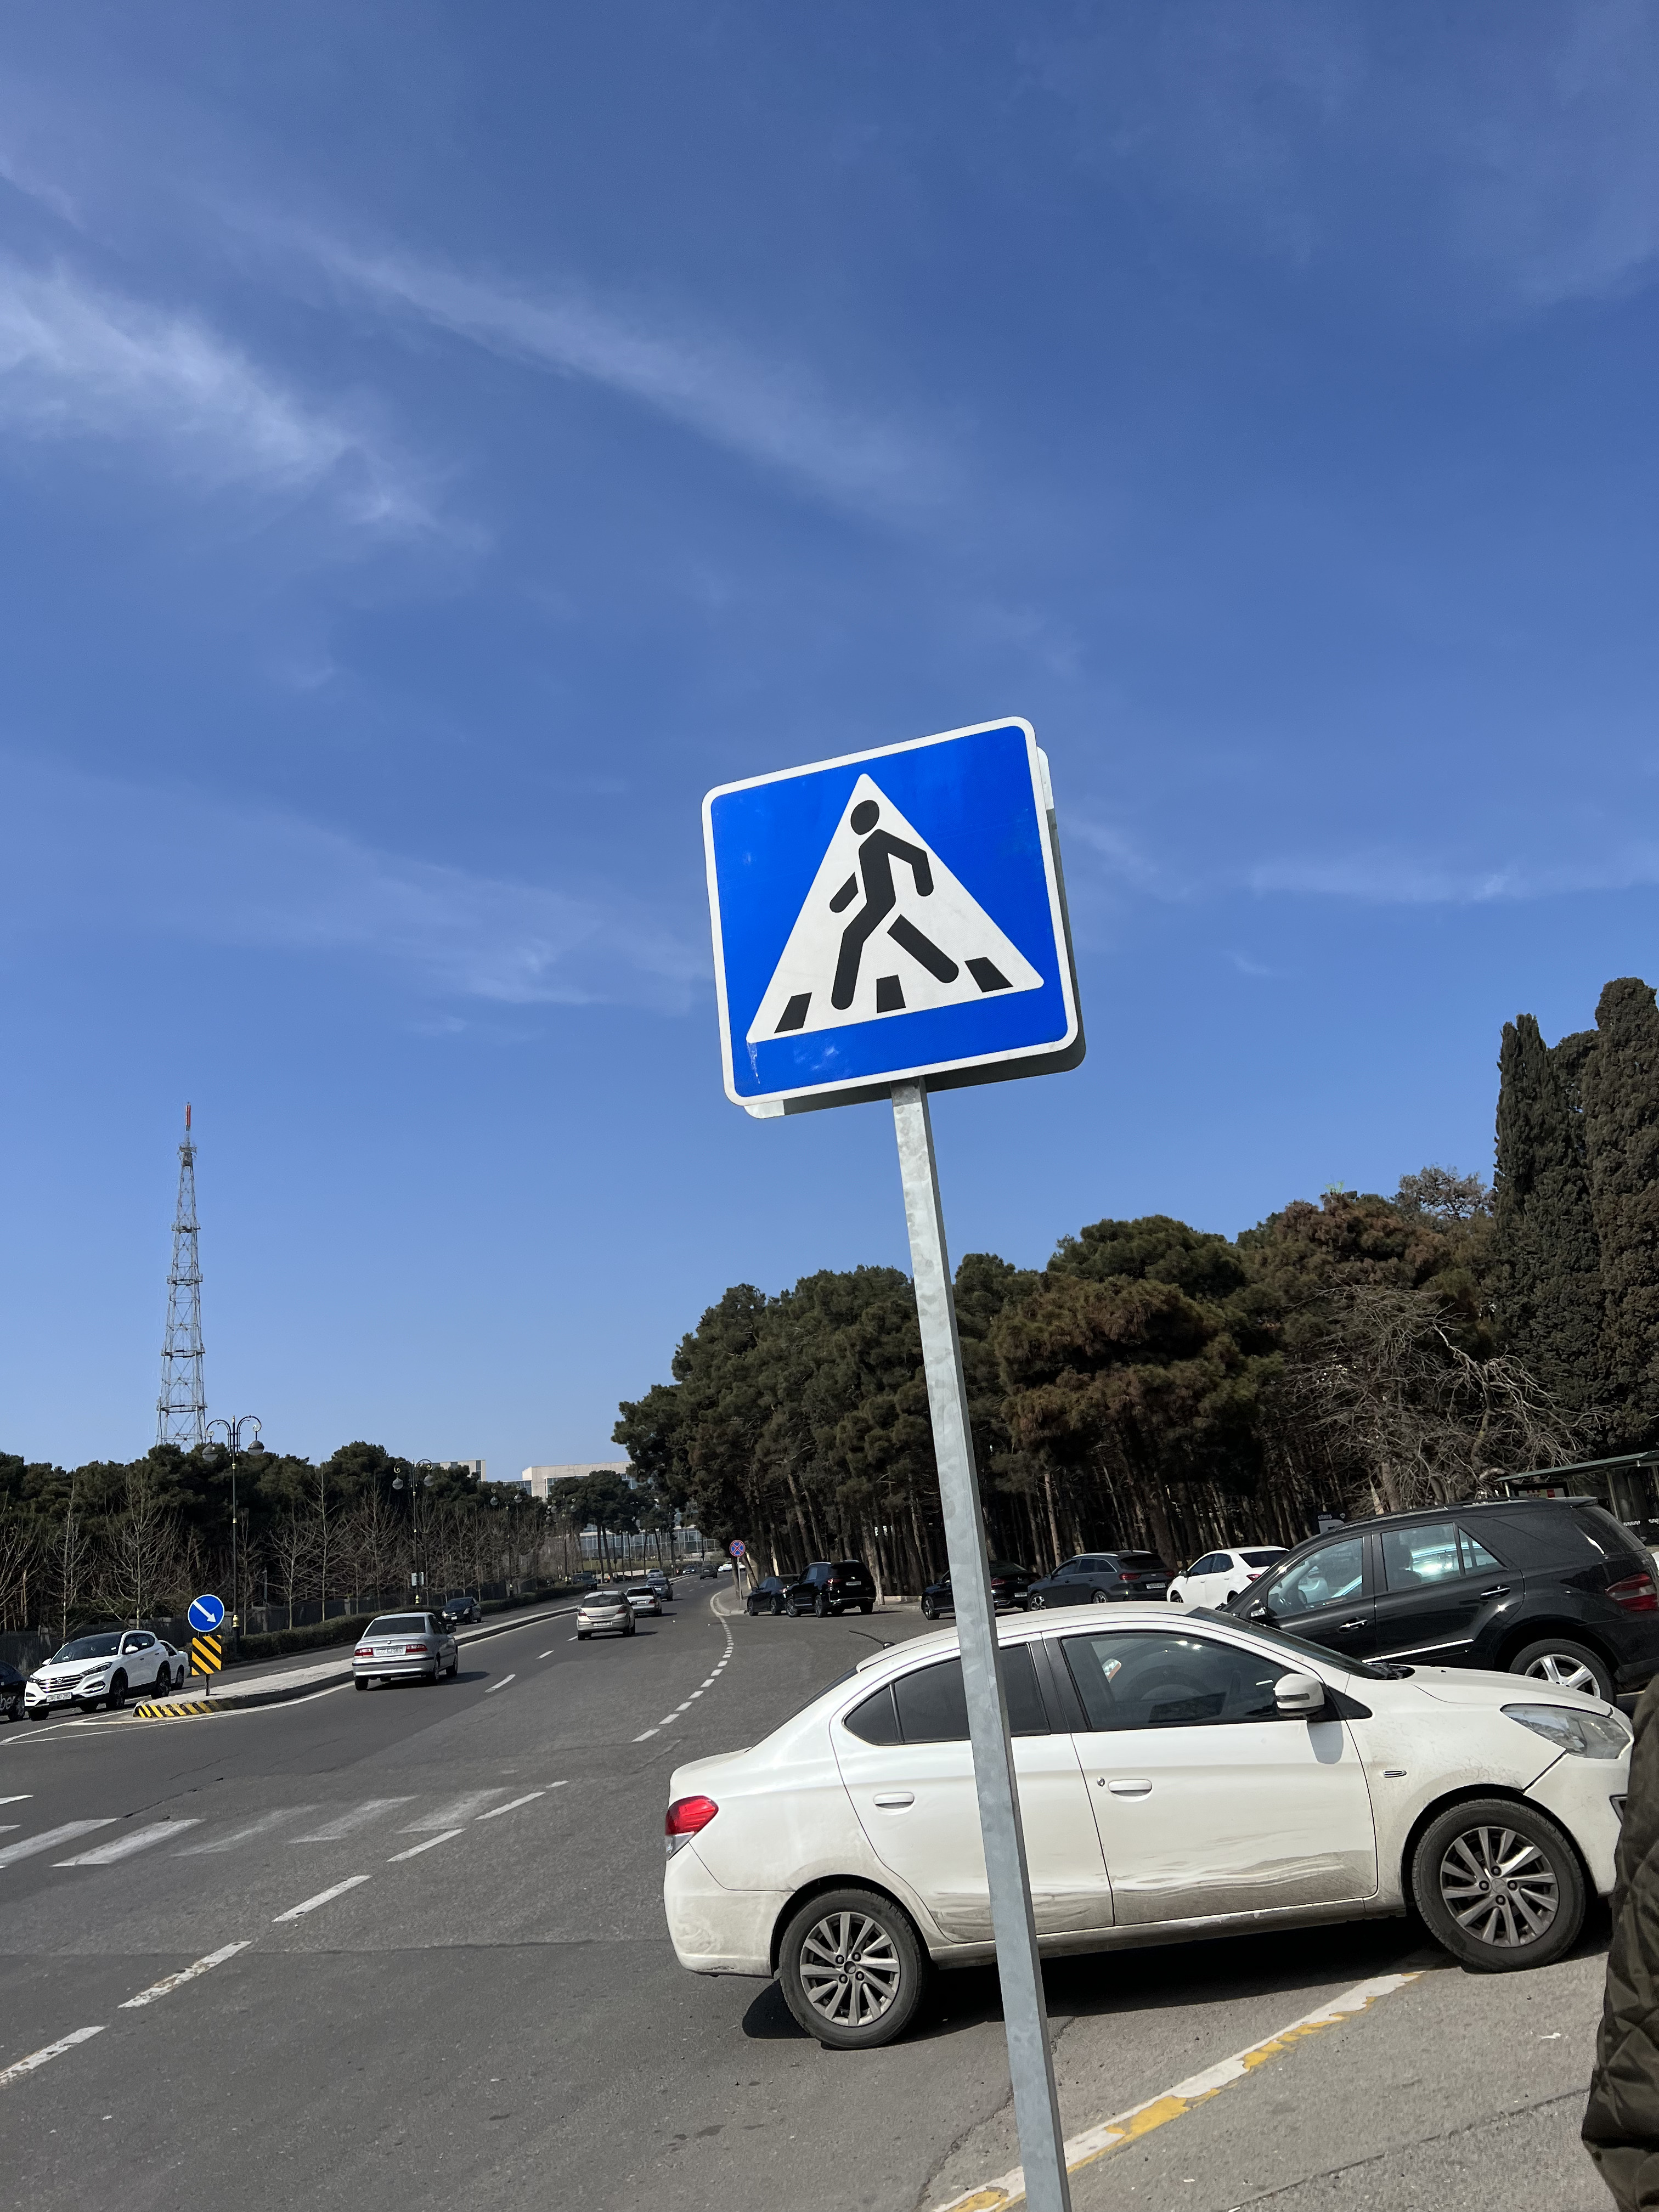Pedestrian Crossing: (701, 716, 1075, 1097)
